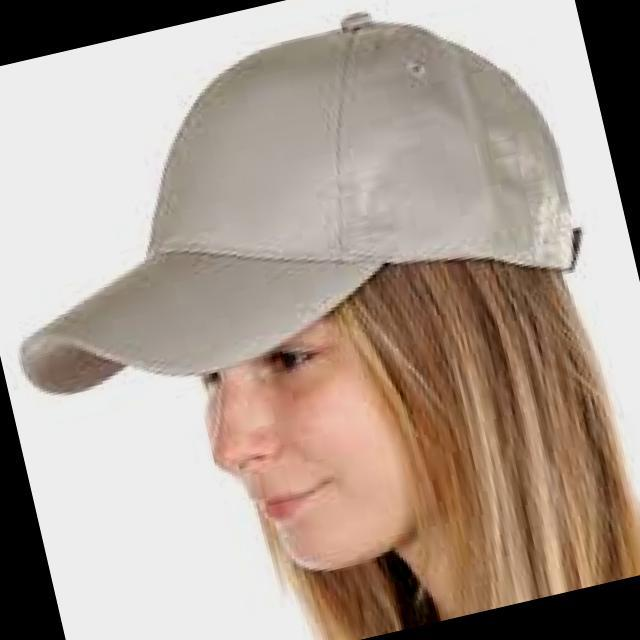cap: (0, 0, 618, 457)
